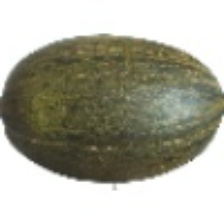honeydew: (33, 18, 224, 179)
